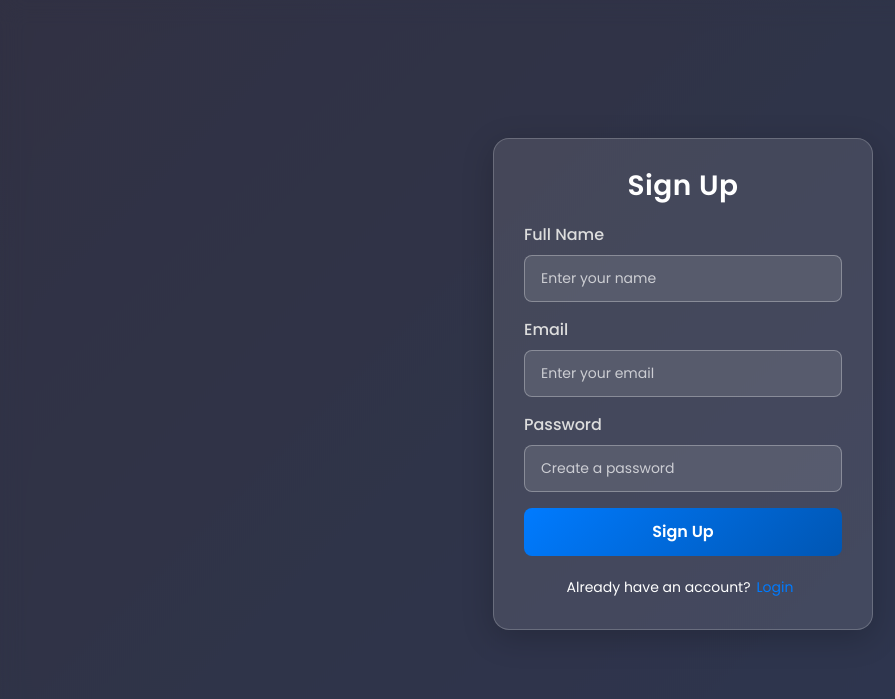
Test: Signup Component › shows error message if email is already in use
Type "John Doe" into the field with placeholder "Enter your name". click: {"x": 683, "y": 278}
box: [524,255,842,302]
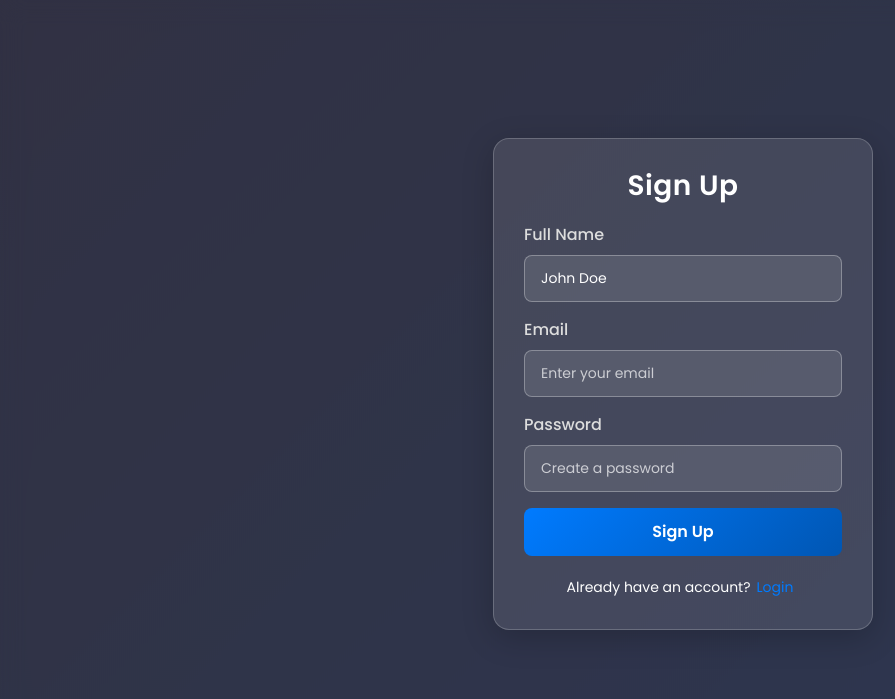
Type "test@example.com" into the field with placeholder "Enter your email". click: {"x": 683, "y": 373}
box: [524,350,842,397]
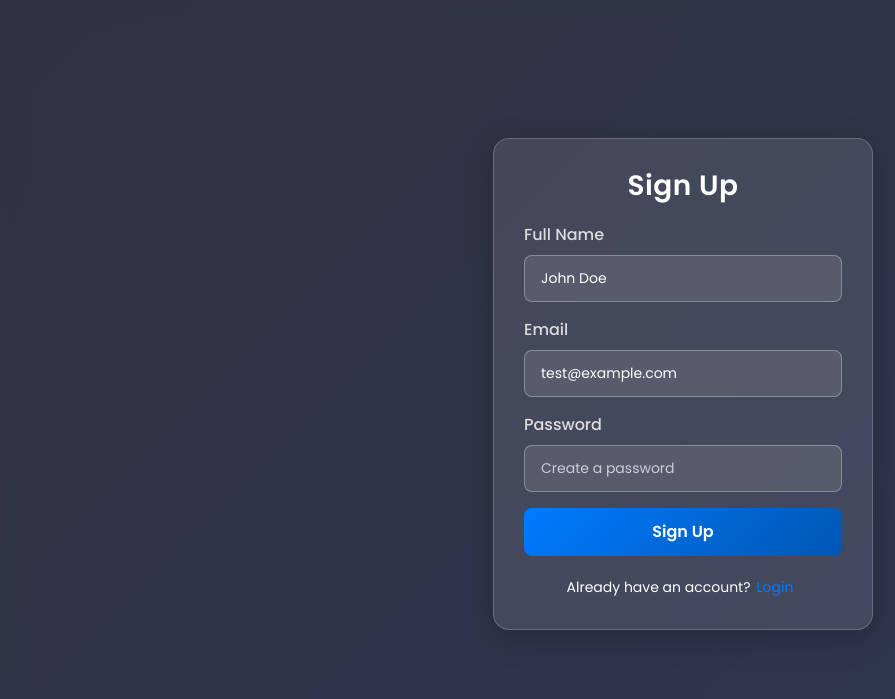
Type "password123" into the password field with placeholder "Create a password". click: {"x": 683, "y": 468}
box: [524,445,842,492]
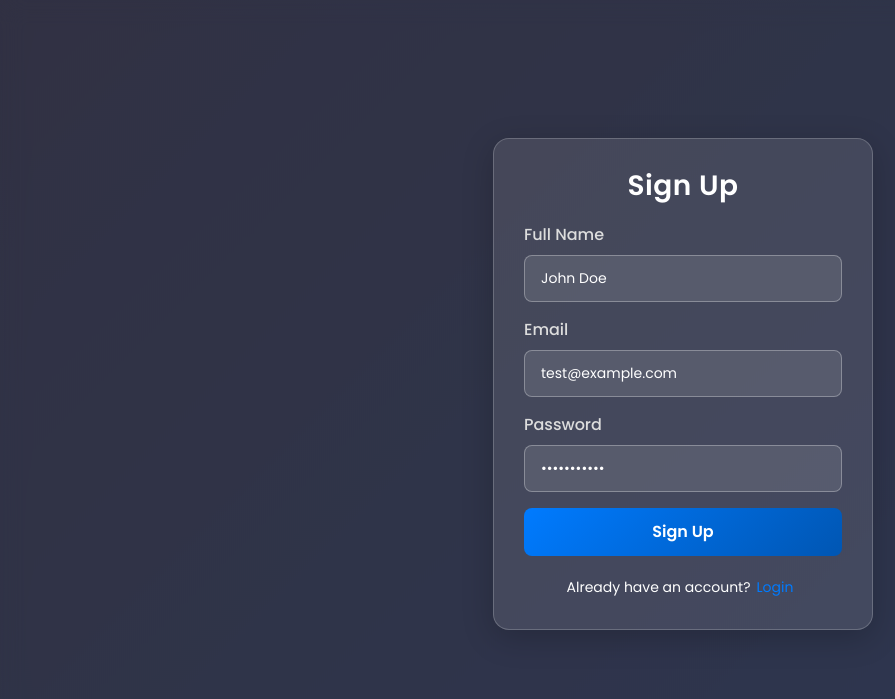
Click the button "Sign Up". click: {"x": 683, "y": 532}
box: [524,508,842,556]
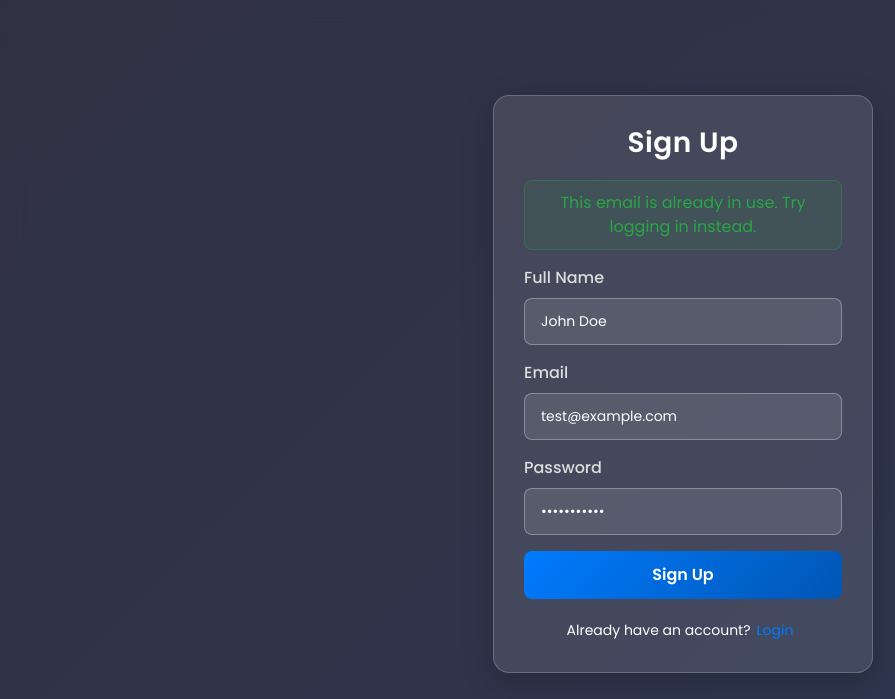
Now the text "This email is already in use. Try logging in instead." is shown, box [524,180,842,250]
